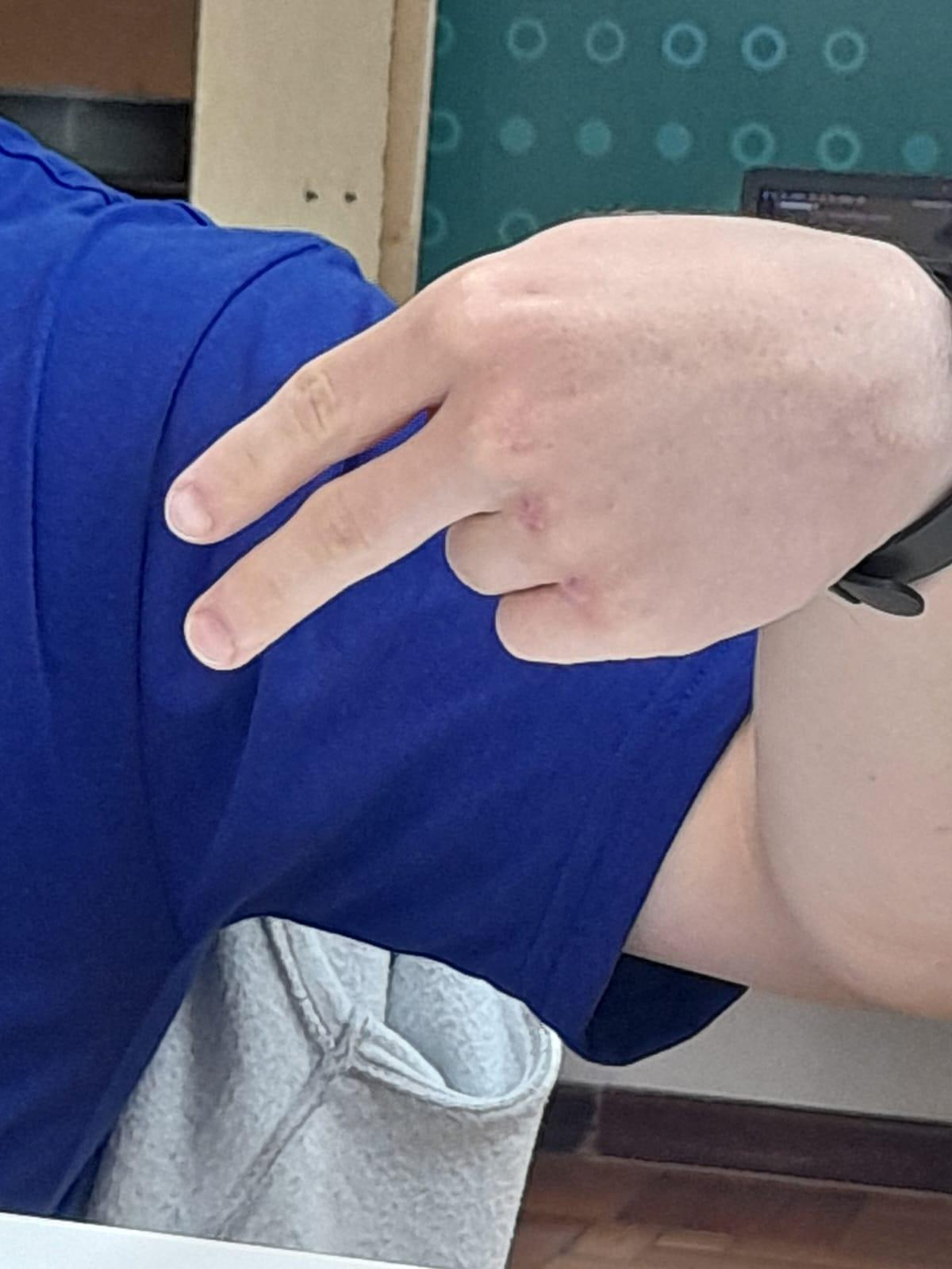N: (151, 198, 952, 694)
